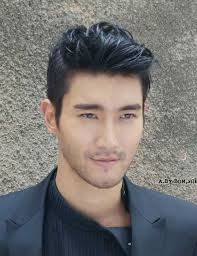asian_male: (59, 71, 141, 200)
